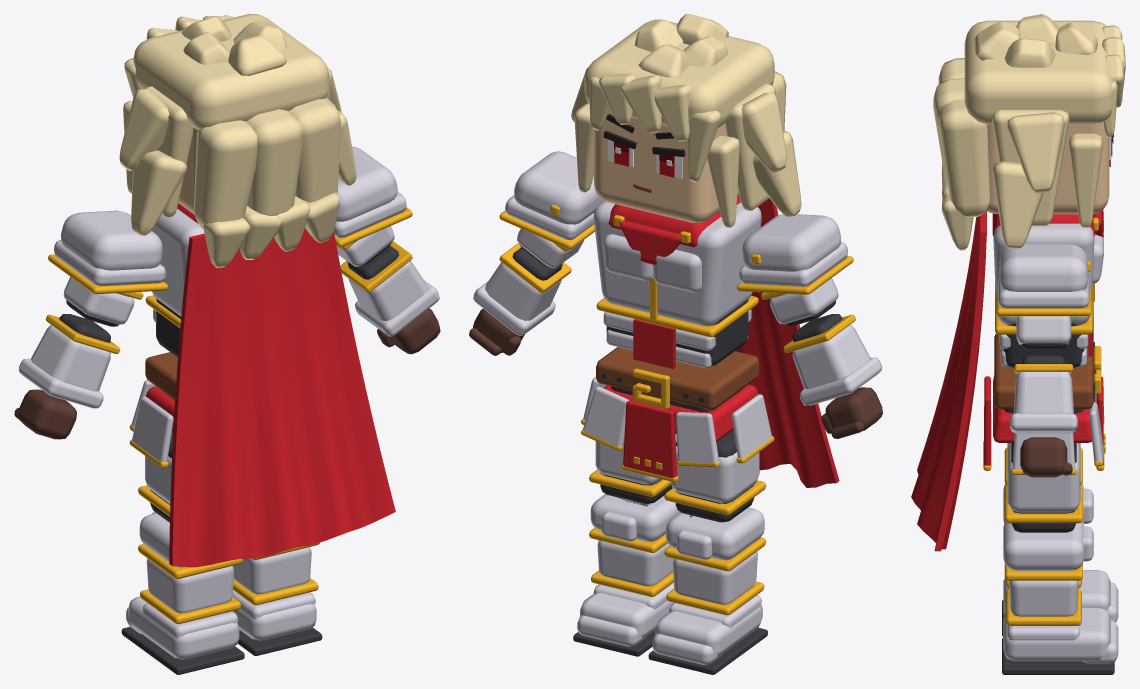
The model's file is warden_female.glb.
3 views of the same model, side by side, from view 1: azimuth 30°, elevation 25°; view 2: azimuth 150°, elevation 25°; view 3: azimuth 270°, elevation 25° (orthographic). The views are drawn at different scales.
Parts seen in each view (by area): view 1: Cape, Hair, LeftUpperArm, LeftLowerLeg, LeftLowerArm, LeftFoot, RightUpperArm, RightLowerArm, RightFoot, UpperTorso, LowerTorso, RightLowerLeg (+4 smaller); view 2: Hair, UpperTorso, LowerTorso, Head, LeftUpperArm, Cape, LeftLowerLeg, RightUpperArm, RightLowerLeg, LeftFoot, LeftLowerArm, LeftUpperLeg (+6 smaller); view 3: Hair, Cape, RightUpperArm, RightLowerLeg, LowerTorso, RightFoot, UpperTorso, RightUpperLeg, RightLowerArm, Head, RightHand, LeftFoot (+2 smaller).
Boxes of the visible parts, x1,y1,x2,y2 form: Cape: (169,228,395,567); Hair: (119,14,356,267); LeftUpperArm: (48,210,168,326); LeftLowerLeg: (138,512,242,624); LeftLowerArm: (18,314,120,408); LeftFoot: (121,596,244,674); RightUpperArm: (334,146,412,266); RightLowerArm: (340,241,439,336); RightFoot: (232,590,322,655); UpperTorso: (145,209,204,357); LowerTorso: (129,352,177,467); RightLowerLeg: (233,542,319,605); Hair: (571,14,801,228); UpperTorso: (593,201,761,368); LowerTorso: (581,347,774,482); Head: (594,112,739,222); LeftUpperArm: (737,214,853,326); Cape: (735,198,839,487); LeftLowerLeg: (664,507,766,615); RightUpperArm: (499,151,604,268); RightLowerLeg: (589,494,680,596); LeftFoot: (648,595,767,674); LeftLowerArm: (783,314,881,405); LeftUpperLeg: (664,430,766,522); Hair: (933,14,1125,250); Cape: (911,212,986,551); RightUpperArm: (996,244,1091,350); RightLowerLeg: (1003,521,1093,625); LowerTorso: (983,334,1105,475); RightFoot: (1002,607,1118,674); UpperTorso: (993,209,1103,367); RightUpperLeg: (1004,443,1082,532); RightLowerArm: (1010,355,1077,433); Head: (987,121,1113,214); RightHand: (1020,437,1072,477); LeftFoot: (1002,570,1118,636).
Bounding box in the file's own units: 3.58 × 5.2 × 1.64.
